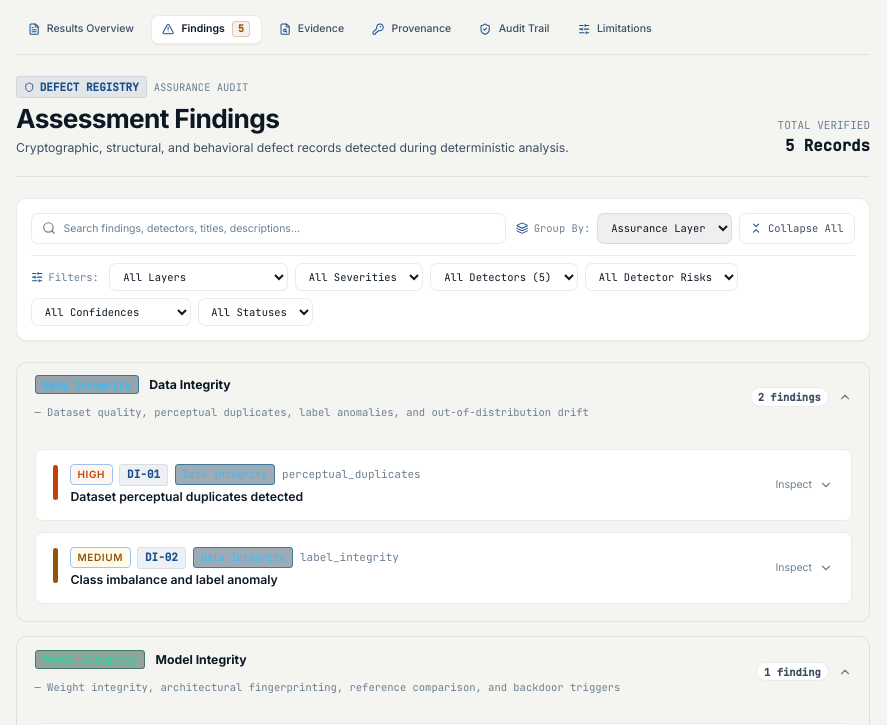
Scenario: Findings Filters and Grouping Component › filters by Assurance Layer
Expected: the heading "Assessment Findings" is shown, [16, 103, 279, 134]
Select "Model Integrity" in the dropdown named "Filter by layer" at (199, 277), box [109, 263, 288, 291]
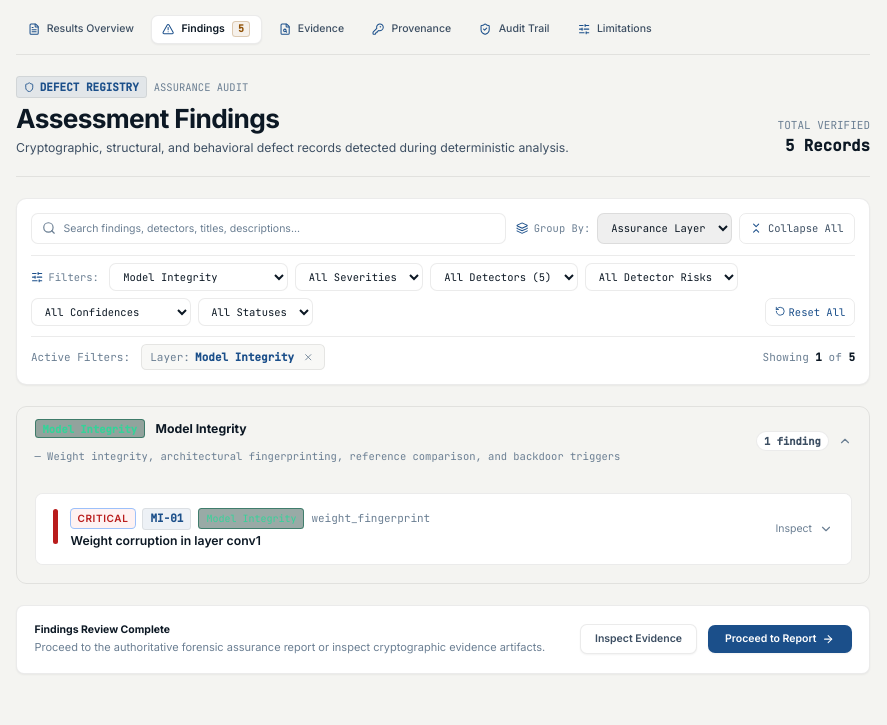
Expected: the text "Weight corruption in layer conv1" is shown, [70, 533, 261, 548]
Result: the button "Dataset perceptual duplicates detected" is gone
